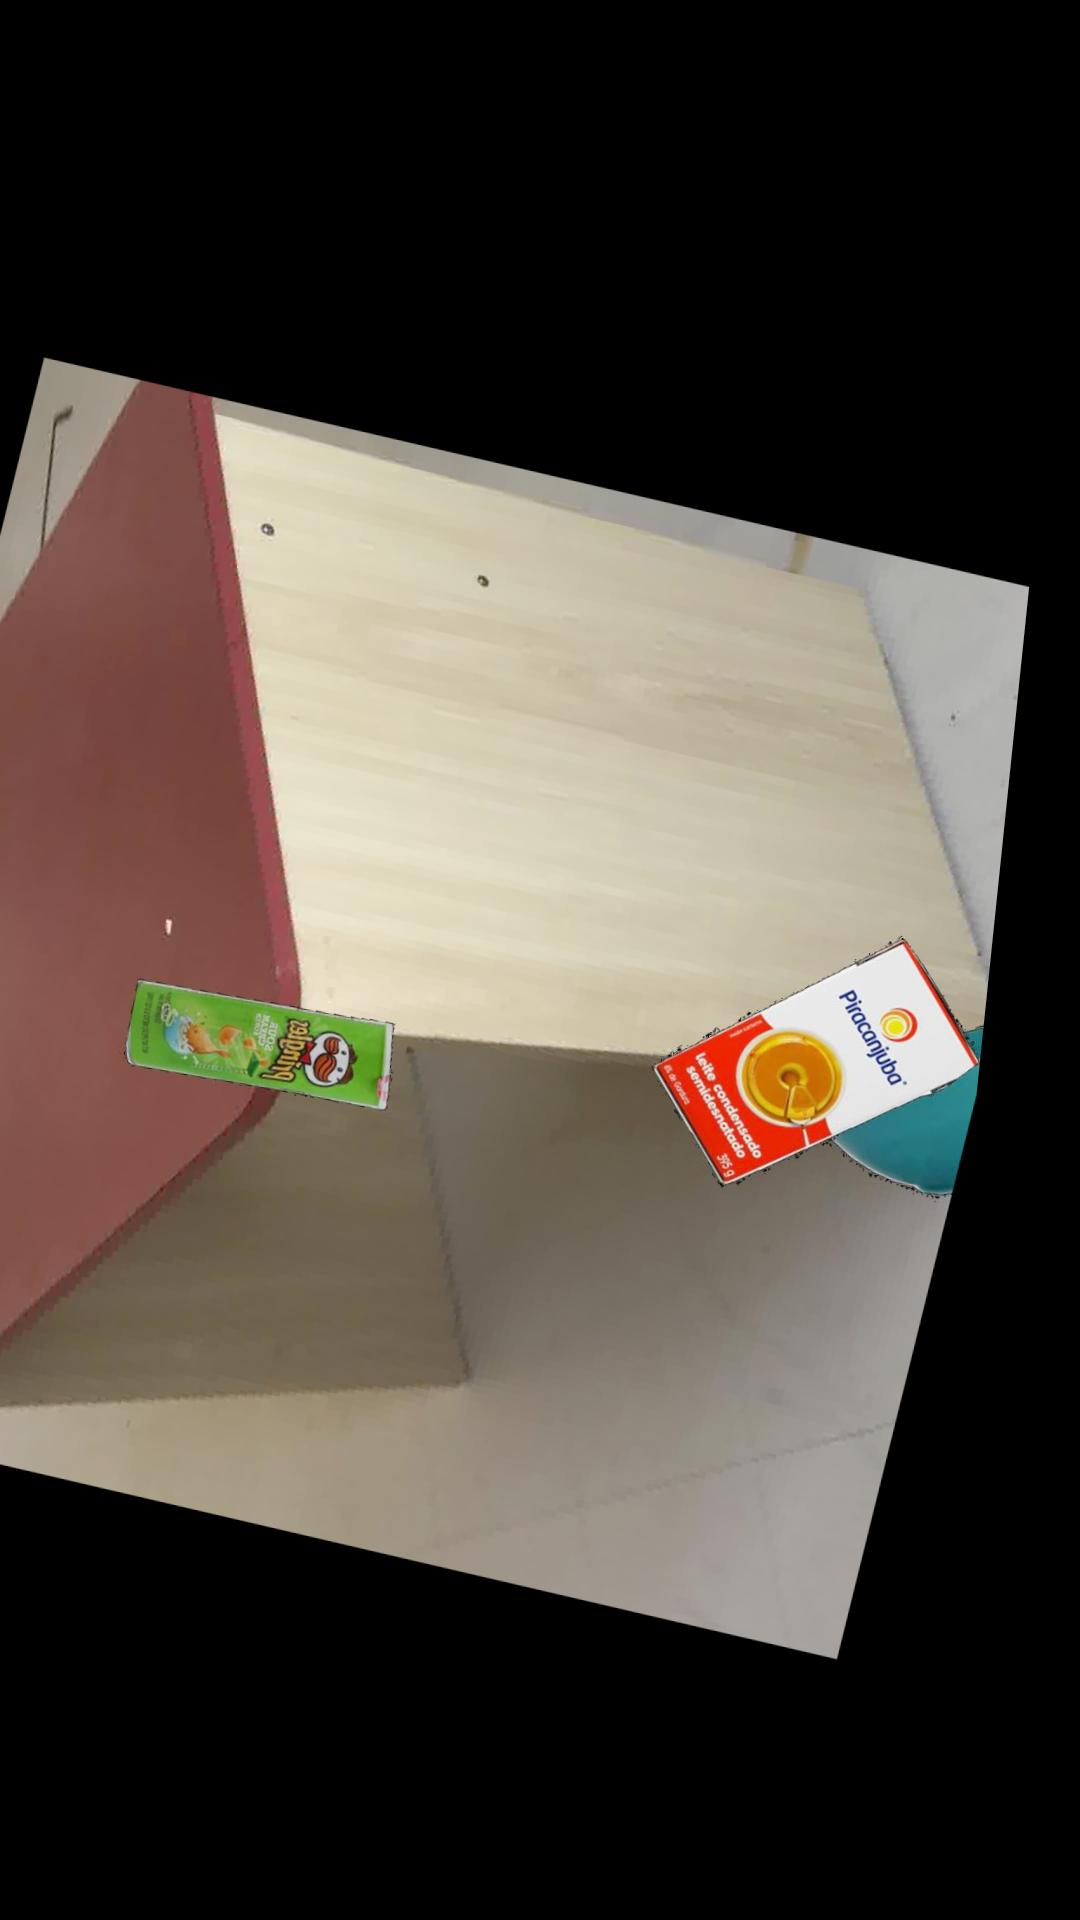bowl: (852, 1004, 1004, 1178)
pringles: (145, 975, 413, 1101)
